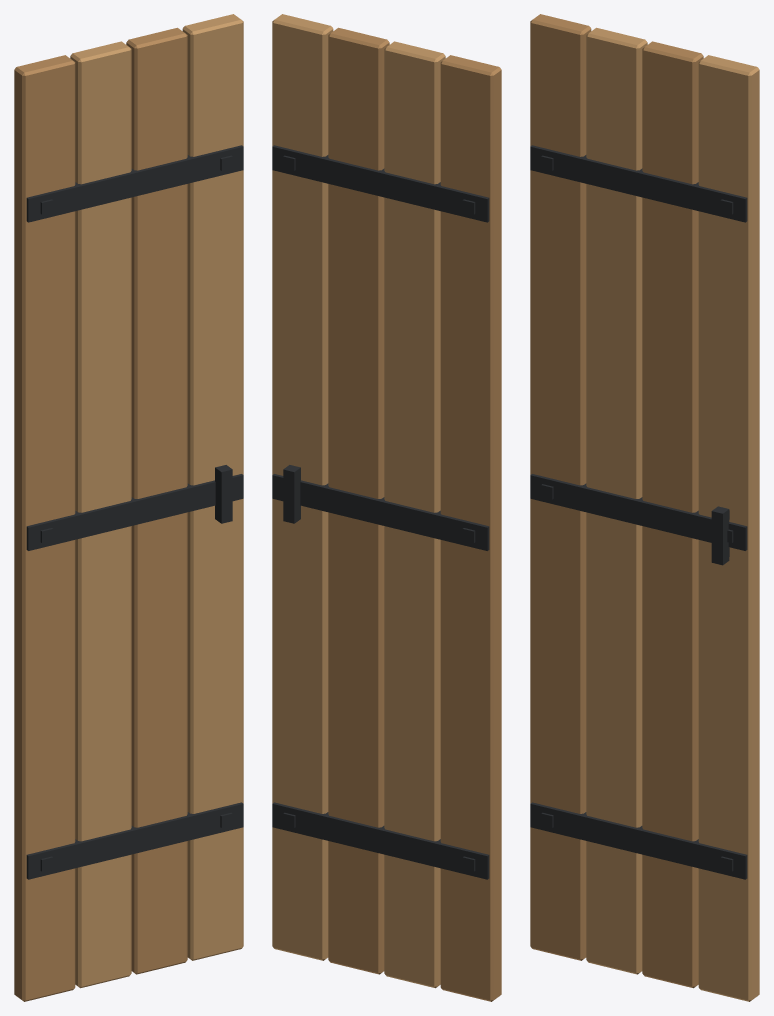
The model's file is porte_pierre_battant.glb.
The picture shows the model from 3 angles, left to right: view 1: azimuth 30°, elevation 25°; view 2: azimuth 150°, elevation 25°; view 3: azimuth 330°, elevation 25°; orthographic projection.
Visible parts, largest first — view 1: porte_pierre_battant_planche.002, porte_pierre_battant_planche_claire.002, porte_pierre_battant_fer_noir.002; view 2: porte_pierre_battant_planche.002, porte_pierre_battant_planche_claire.002, porte_pierre_battant_fer_noir.002; view 3: porte_pierre_battant_planche_claire.002, porte_pierre_battant_planche.002, porte_pierre_battant_fer_noir.002.
Part boxes in pixels (x1,y1,x2,y2): porte_pierre_battant_planche.002: (14,27,187,1001); porte_pierre_battant_planche_claire.002: (70,14,243,988); porte_pierre_battant_fer_noir.002: (26,145,243,879); porte_pierre_battant_planche.002: (328,27,501,1001); porte_pierre_battant_planche_claire.002: (272,14,445,988); porte_pierre_battant_fer_noir.002: (272,145,489,879); porte_pierre_battant_planche_claire.002: (586,27,759,1001); porte_pierre_battant_planche.002: (530,14,703,988); porte_pierre_battant_fer_noir.002: (530,145,747,879).
Size of the model in its own units: 0.494 by 1.98 by 0.1.
